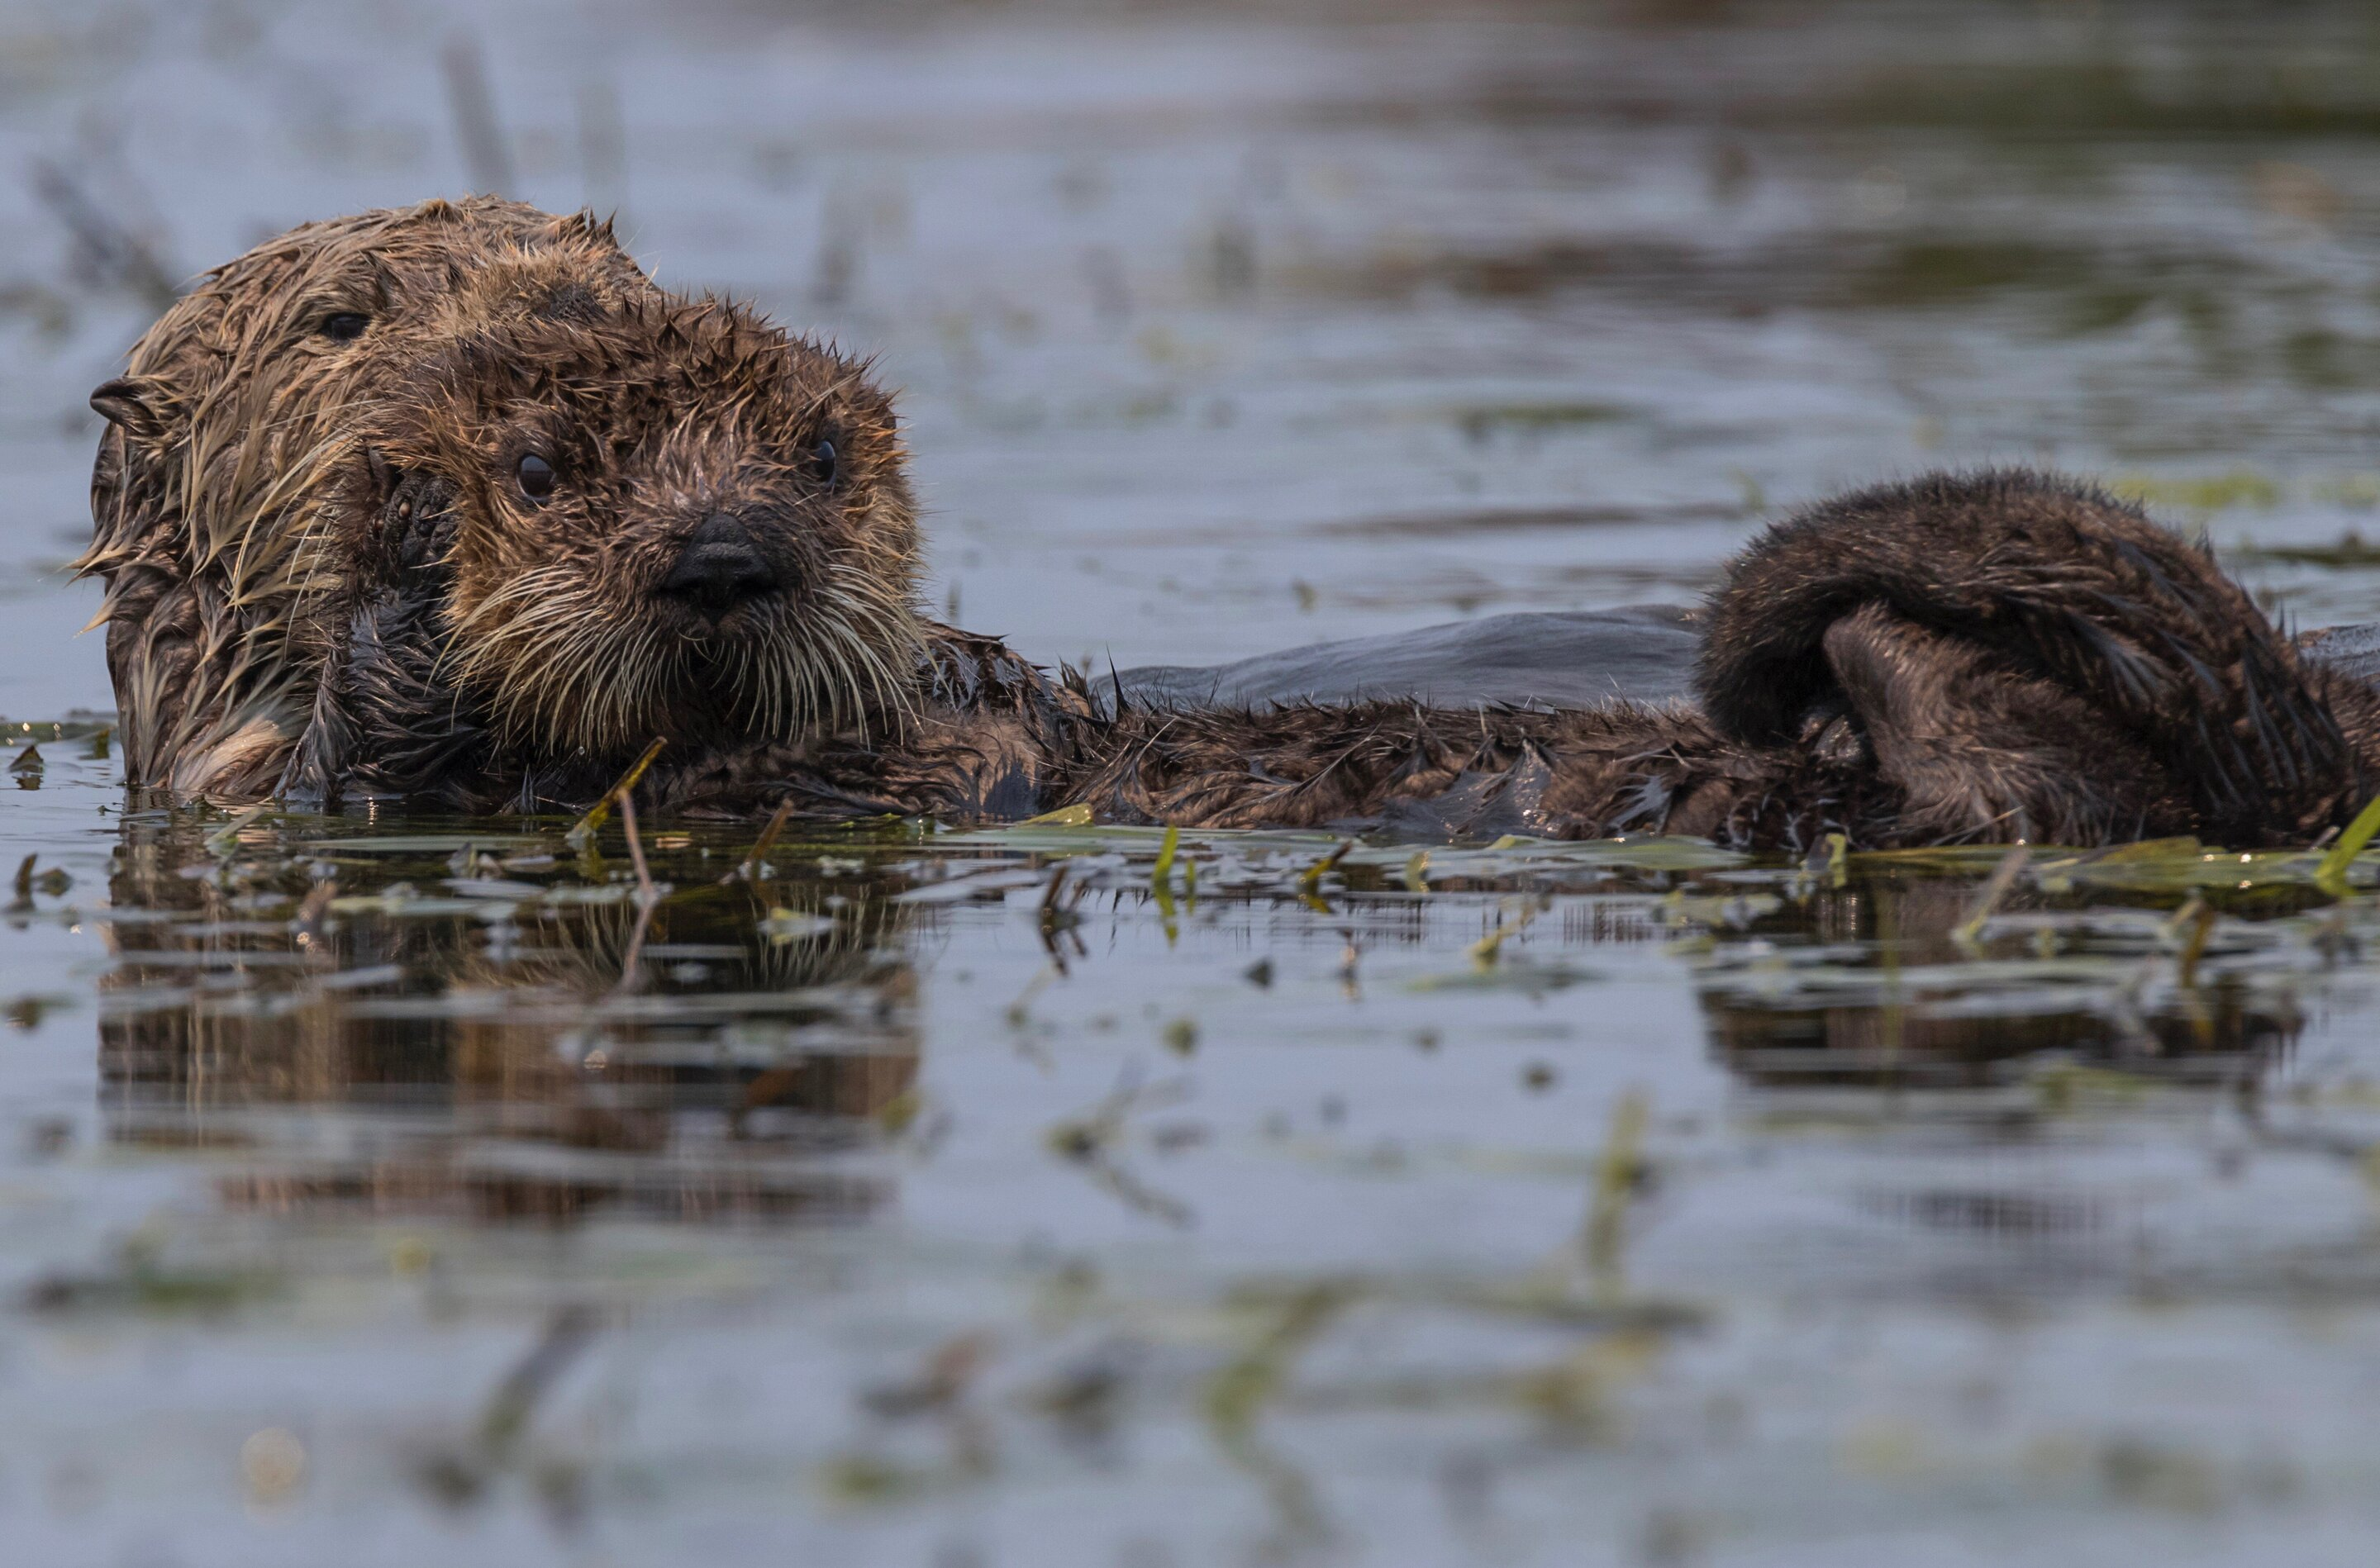otter: (119, 119, 2291, 887)
